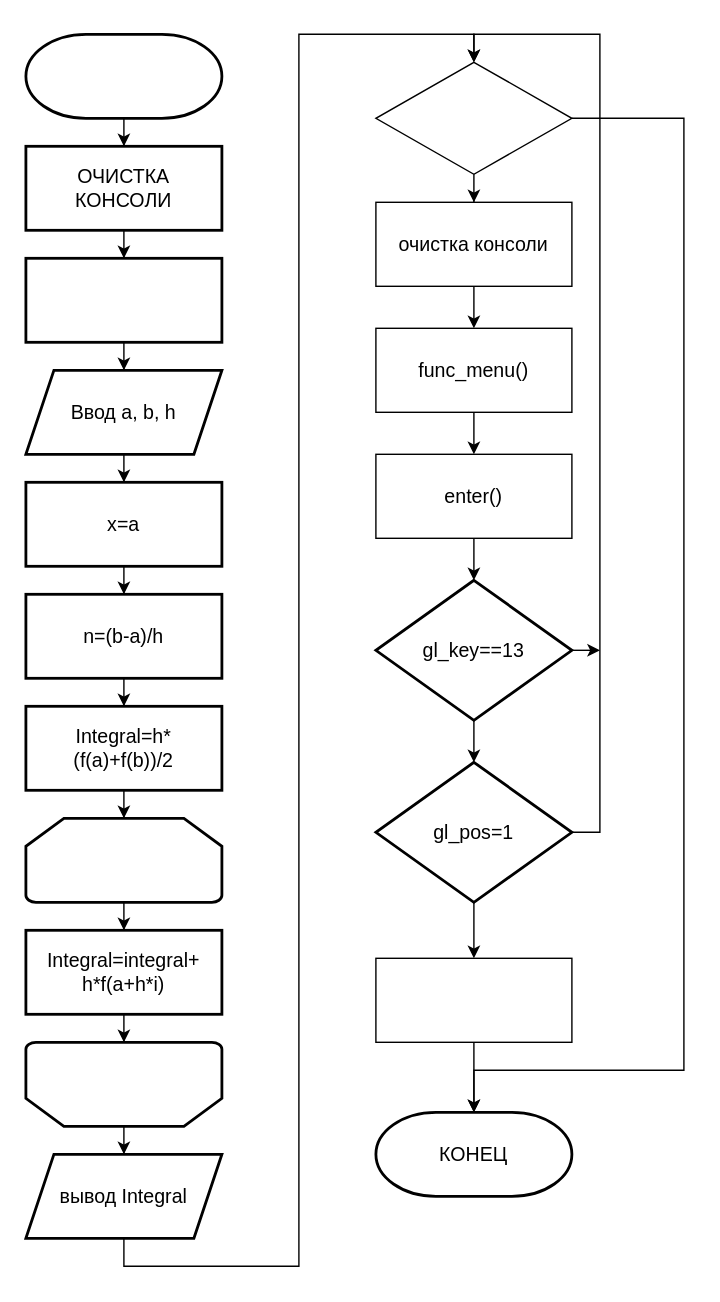
The diagram is 720 pixels wide and 1302 high, and some of its shapes have lost their labels. The shapes that lost their labels are listed below. From the top down, each one's centre as x and y in pixels, then its label:
At (123,75): "НАЧАЛО".
At (473,117): "gl_key!=9999".
At (123,299): "n=0".
At (123,859): "цикл 1 начало i=1, 1<=n-1, i++".
At (473,999): "return 0".
At (123,1083): "цикл 1 конец".
